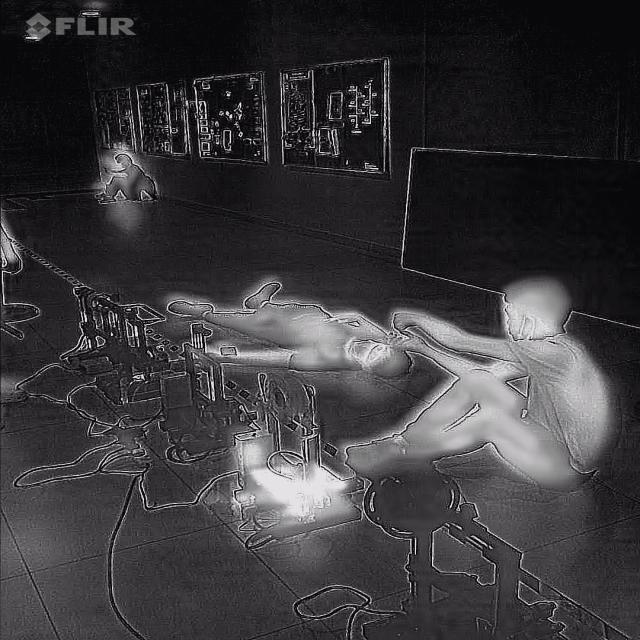Victim: (341, 271, 619, 491), (154, 271, 418, 385), (85, 147, 170, 207)
